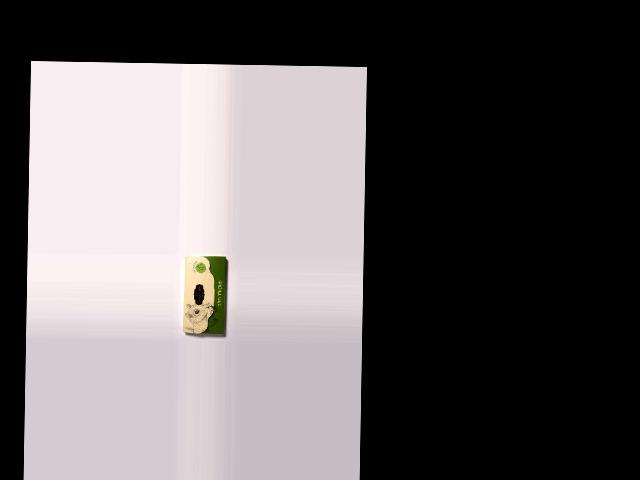chocolate: (182, 254, 227, 335)
